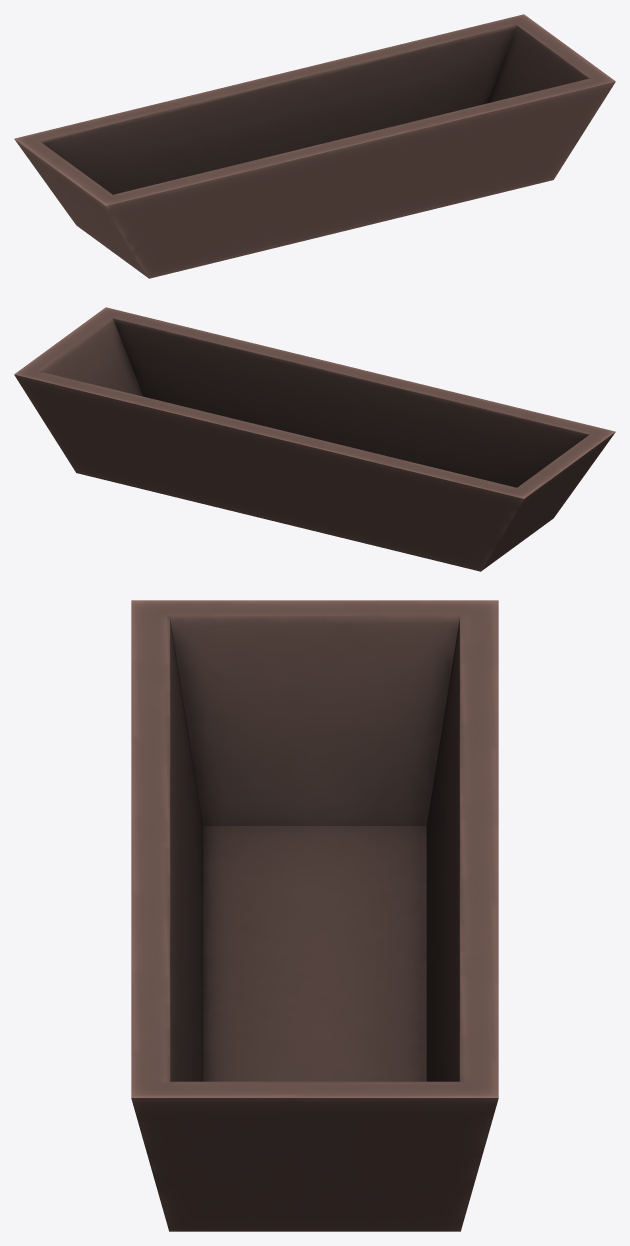
Rendered from Props_6.fbx.
3 renders of one model, top to bottom at view 1: azimuth 30°, elevation 25°; view 2: azimuth 150°, elevation 25°; view 3: azimuth 270°, elevation 25°, orthographic. The views are drawn at different scales.
Visible parts, largest first — view 1: Props_6; view 2: Props_6; view 3: Props_6.
Boxes of the visible parts, x1,y1,x2,y2 form: Props_6: (14, 14, 615, 278); Props_6: (14, 307, 615, 571); Props_6: (131, 600, 498, 1231).
Bounding box in the file's own units: 42.81 × 7.43 × 13.36.
